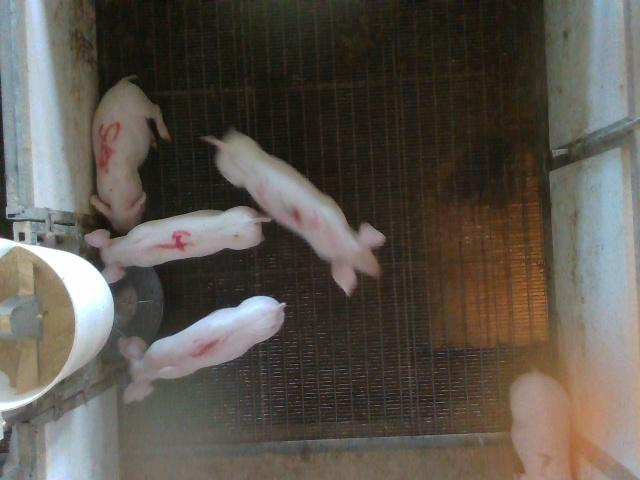pig-1: (119, 296, 286, 403)
pig-3: (203, 129, 385, 296)
pig-4: (85, 206, 271, 283)
pig-5: (91, 75, 170, 234)
